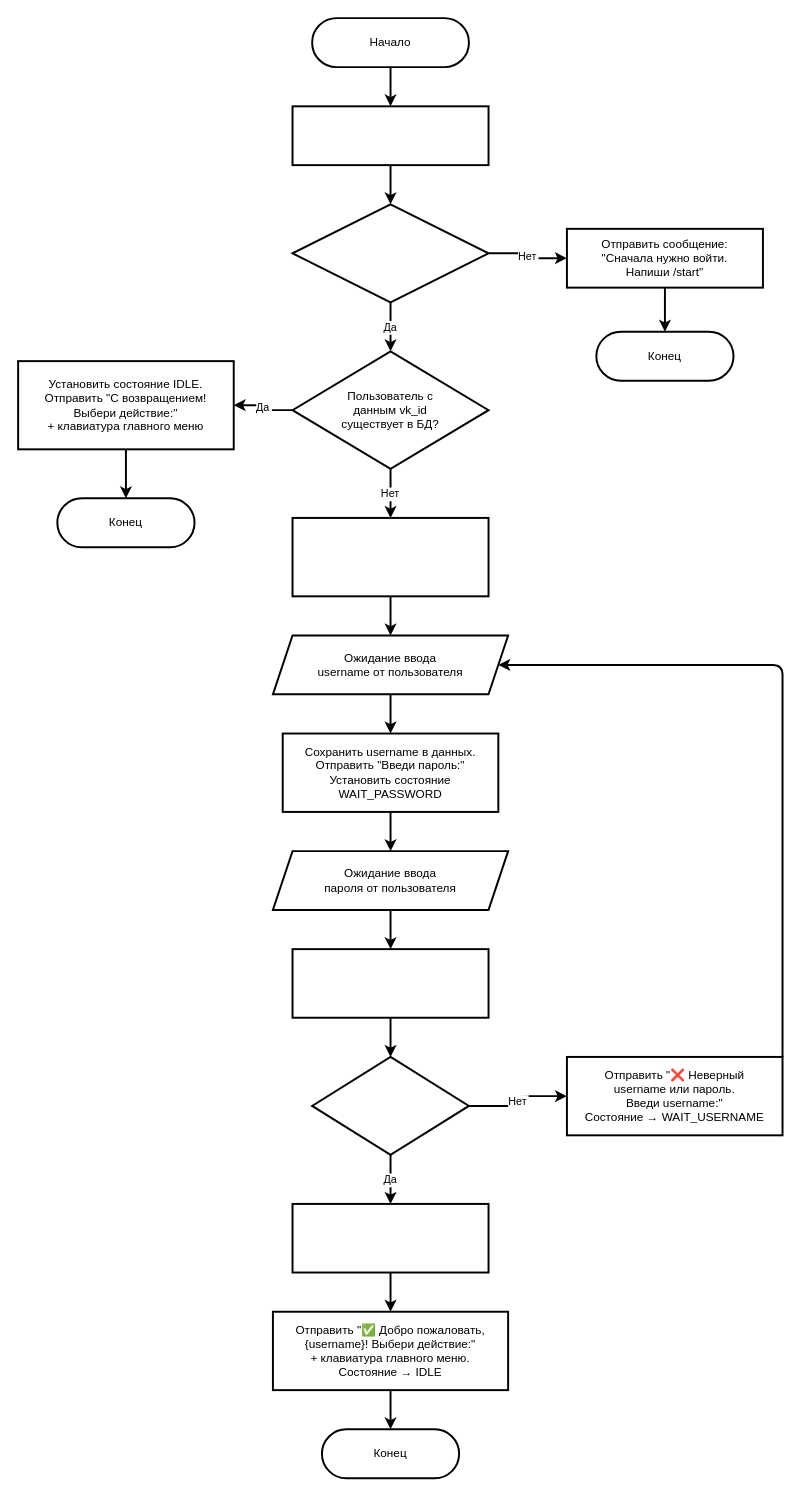
Image size: 808x1495. Some labels were removed from this diagram. The centre of each missing label's shape, as x and y in pixels:
Аутентификация успешна?: pixel 390 1105
Аутентификация: проверка username и password через Django ORM: pixel 390 983
Отправить сообщение: "Введи свой username:" Установить состояние WAIT_USERNAME: pixel 390 556
Получение сообщения от пользователя: pixel 390 135
Привязать vk_id к аккаунту пользователя (api.link_vk): pixel 390 1237
Текст = "/start" или "начать"?: pixel 390 253
